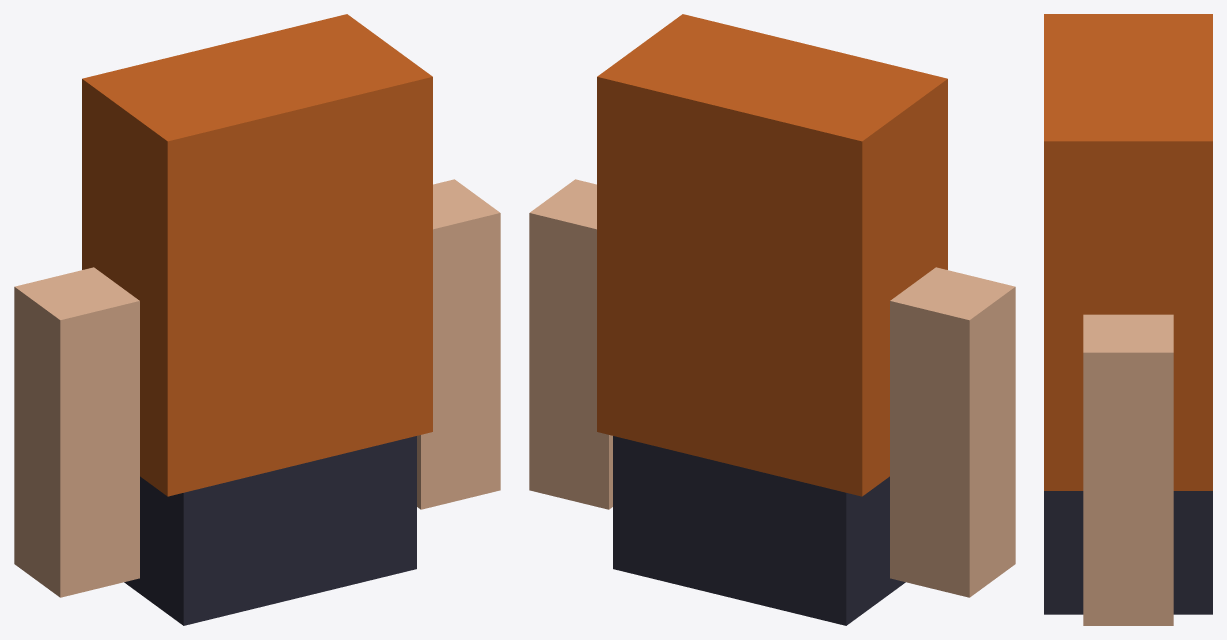
File: tc_mec_l1.glb
3 views of the same model, side by side, from view 1: azimuth 30°, elevation 25°; view 2: azimuth 150°, elevation 25°; view 3: azimuth 270°, elevation 25° (orthographic).
Parts seen in each view (by area): view 1: TC Mechanic_L1; view 2: TC Mechanic_L1; view 3: TC Mechanic_L1.
Boxes of the visible parts, <box> form: TC Mechanic_L1: <box>14,14,500,625</box>; TC Mechanic_L1: <box>529,14,1015,625</box>; TC Mechanic_L1: <box>1044,14,1212,625</box>.
Size of the model in its own units: 0.83 by 0.88 by 0.28.
